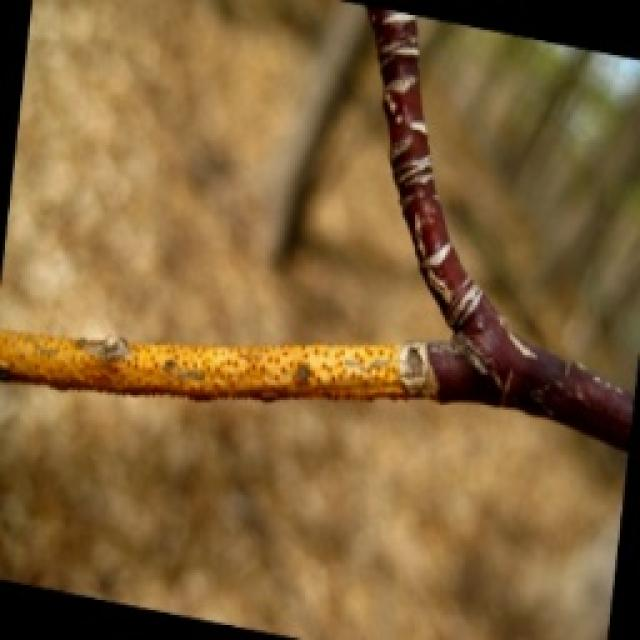Golden_canker: (0, 320, 440, 405)
